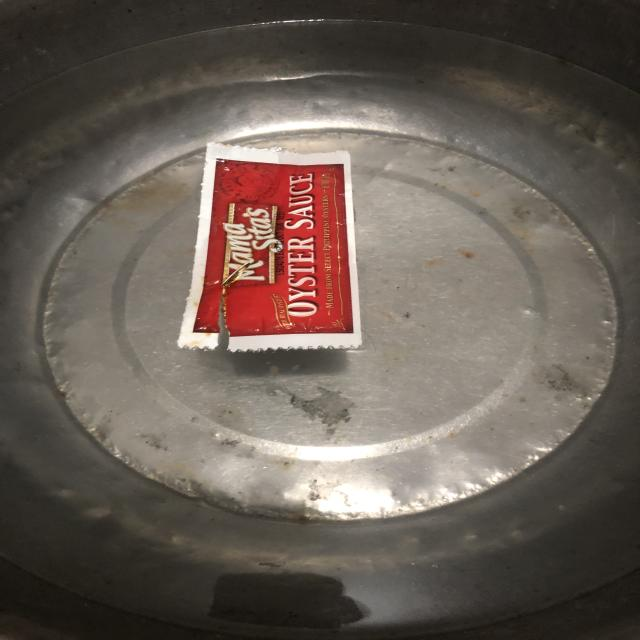Plastic Wrapper: (140, 114, 387, 378)
